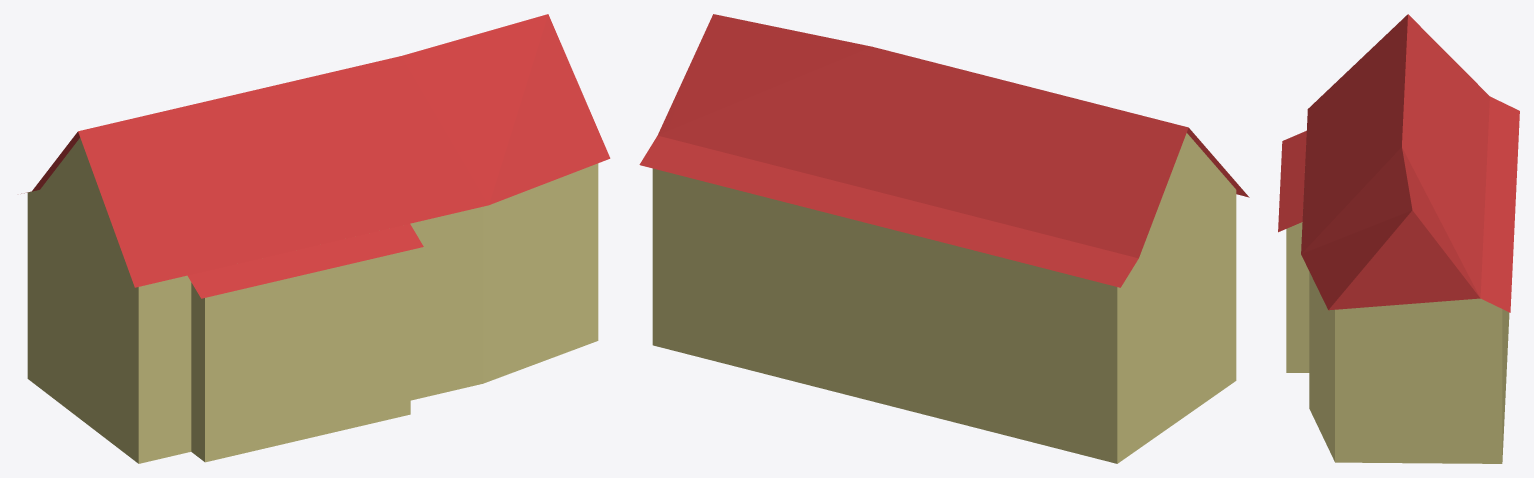
3 renders of one model, left to right at view 1: azimuth 30°, elevation 25°; view 2: azimuth 150°, elevation 25°; view 3: azimuth 270°, elevation 25°, orthographic. The views are drawn at different scales.
Bounding box in the file's own units: 29.16 × 14.62 × 16.71.
